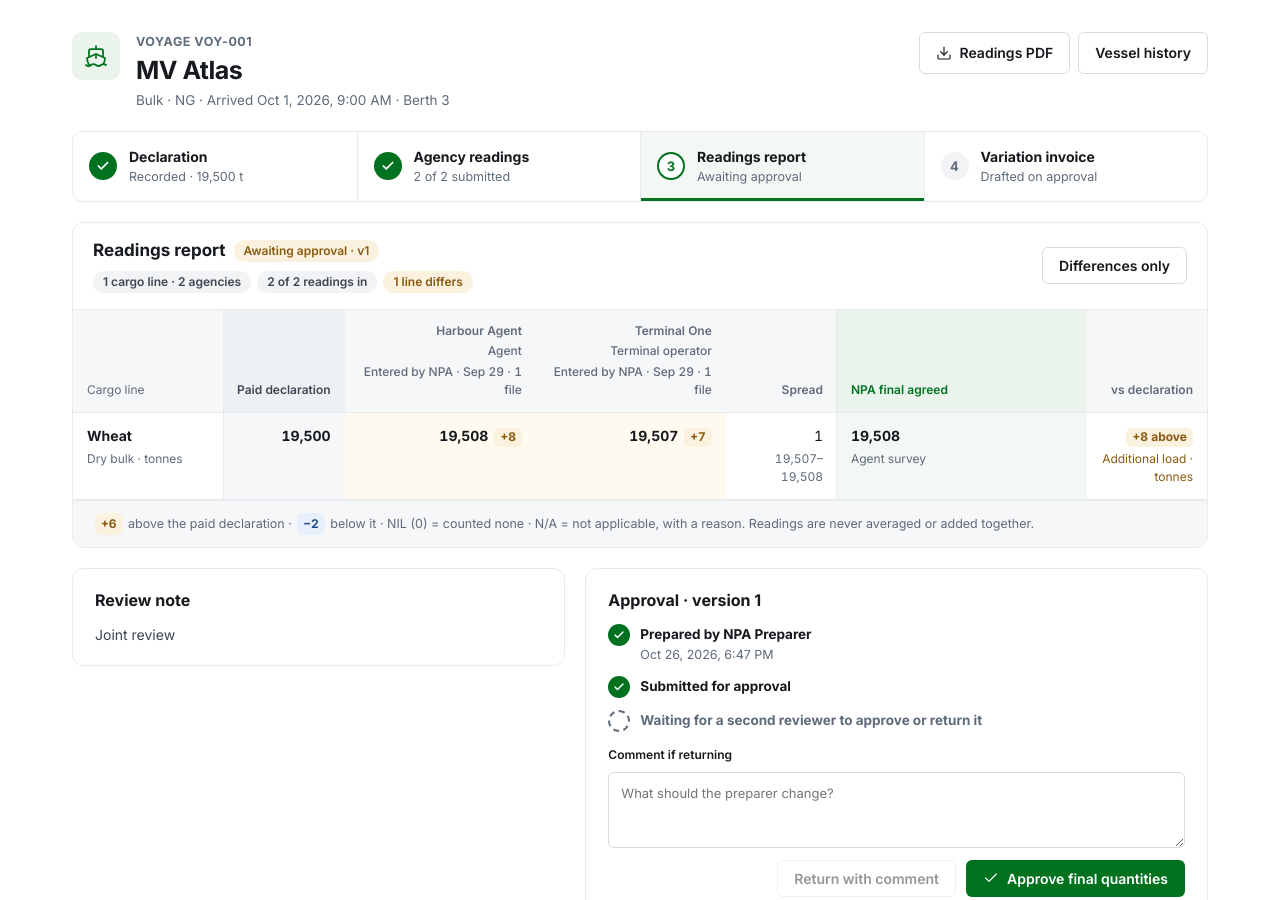
voyage readings report › approves without an invoice when details are missing, and says what to do next
Click the button "Approve final quantities" at (1076, 878), box [966,860,1185,897]
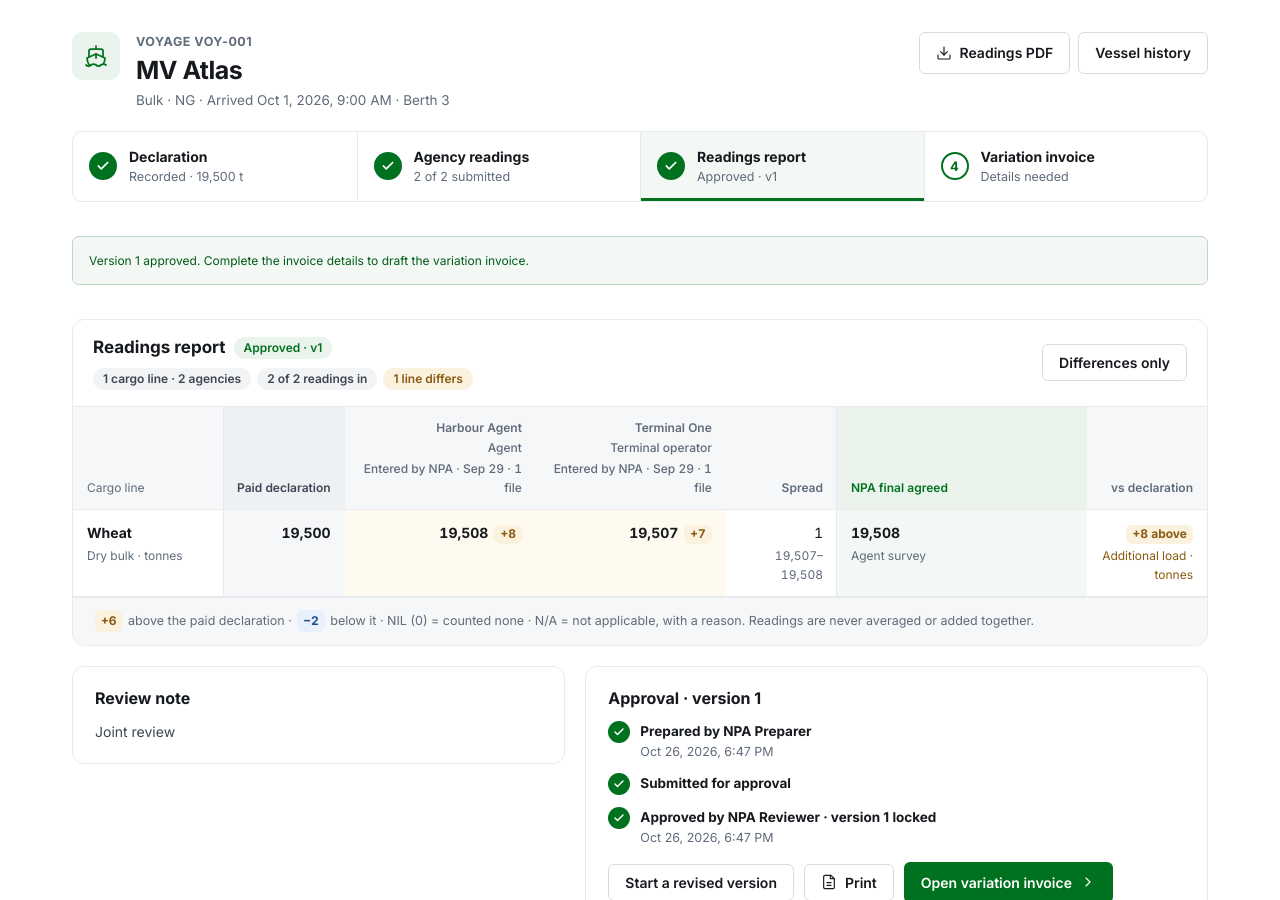
Result: the text "Version 1 approved. Complete the invoice details to draft the variation invoice." is shown at [72,236,1208,285]
